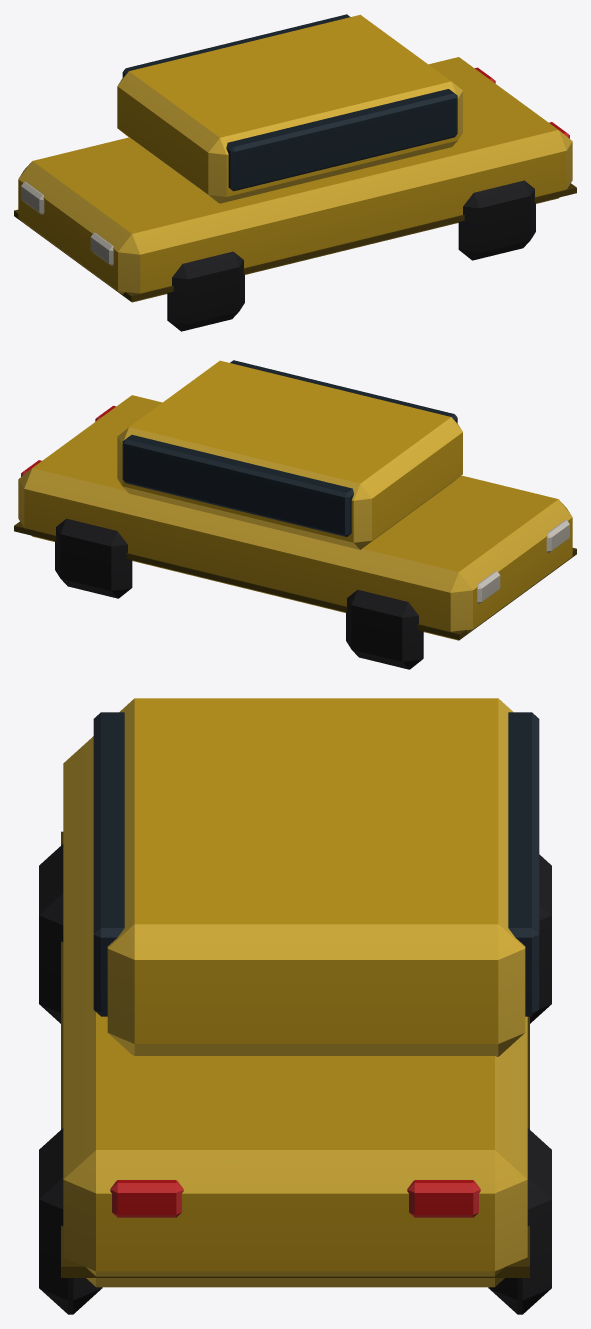
The model's file is car-sedan-v1.glb.
3 views of the same model, one above another, from view 1: azimuth 30°, elevation 25°; view 2: azimuth 150°, elevation 25°; view 3: azimuth 270°, elevation 25° (orthographic). The views are drawn at different scales.
Visible parts, largest first — view 1: car-sedan-v1.lod0; view 2: car-sedan-v1.lod0; view 3: car-sedan-v1.lod0.
Boxes of the visible parts, <box> form: car-sedan-v1.lod0: <box>14,14,576,331</box>; car-sedan-v1.lod0: <box>14,360,576,669</box>; car-sedan-v1.lod0: <box>39,698,551,1314</box>.
Bounding box in the file's own units: 4.35 × 1.52 × 2.1.
